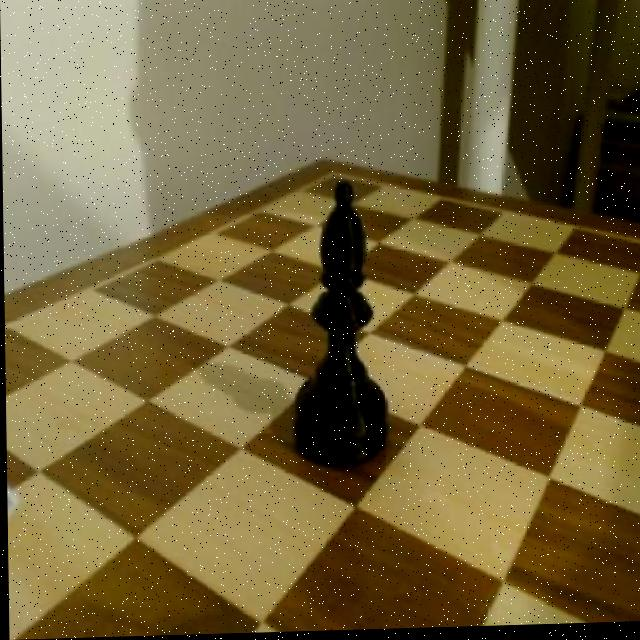bishop: (285, 175, 393, 474)
